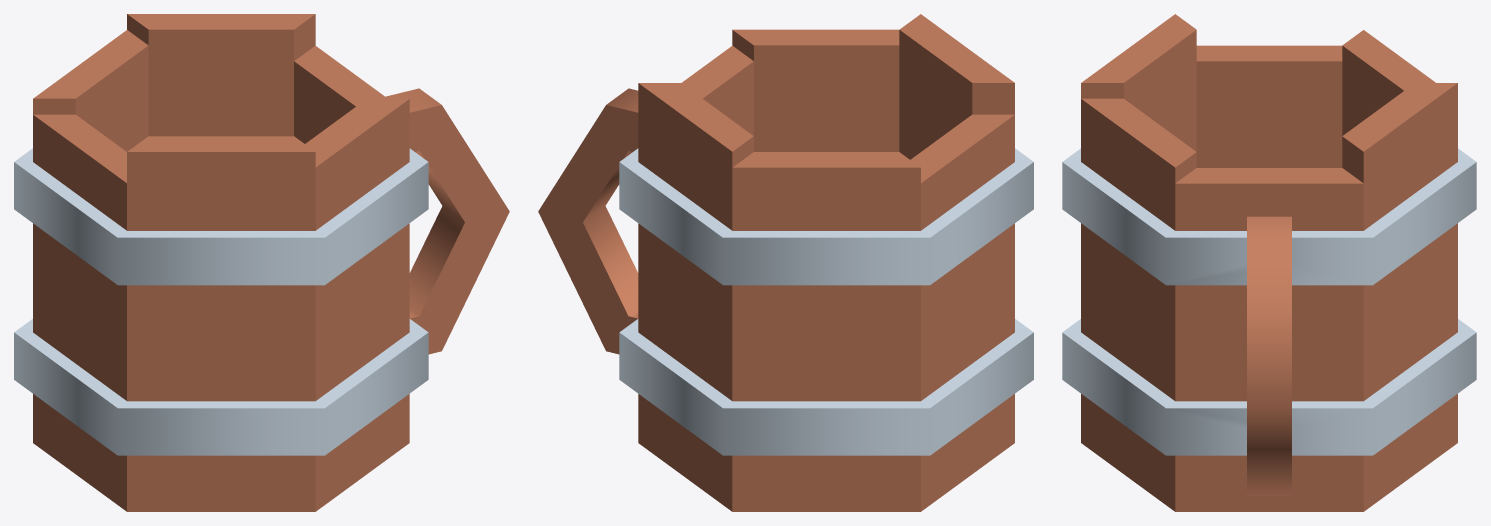
Rendered from mug.obj.
3 renders of one model, left to right at view 1: azimuth 30°, elevation 25°; view 2: azimuth 150°, elevation 25°; view 3: azimuth 270°, elevation 25°, orthographic.
Visible parts, largest first — view 1: mug; view 2: mug; view 3: mug.
Part boxes in pixels (bbox=[...]): mug: bbox=[14, 14, 509, 511]; mug: bbox=[538, 14, 1033, 511]; mug: bbox=[1062, 14, 1476, 511].
Size of the model in its own units: 0.3437 by 0.2734 by 0.2851.
